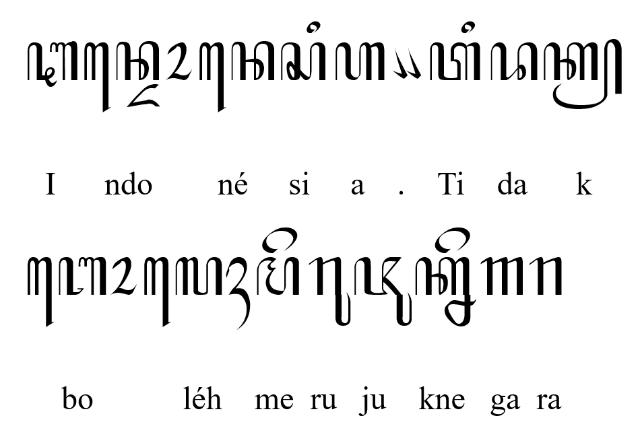-k: (542, 38, 624, 110)
I: (27, 40, 78, 88)
_d: (126, 82, 162, 108)
_h1: (226, 257, 250, 331)
b: (57, 256, 106, 296)
d: (489, 41, 538, 80)
e: (433, 227, 471, 255), (262, 226, 298, 254)
e1: (198, 42, 226, 114), (26, 257, 54, 329), (84, 41, 110, 113), (144, 257, 170, 328)
g: (480, 256, 524, 296)
h: (335, 42, 385, 82)
i: (461, 20, 475, 34), (306, 20, 320, 33)
ju: (353, 256, 412, 326)
kn: (416, 257, 476, 328)
kom: (405, 45, 421, 80), (392, 46, 408, 79)
l: (175, 257, 223, 297)
m: (256, 256, 300, 296)
n: (231, 40, 275, 82), (116, 41, 160, 81)
o: (165, 41, 192, 81), (109, 256, 137, 294)
r: (529, 257, 563, 297)
ru: (308, 258, 352, 326)
s: (280, 42, 326, 82)
t: (428, 41, 482, 81)
